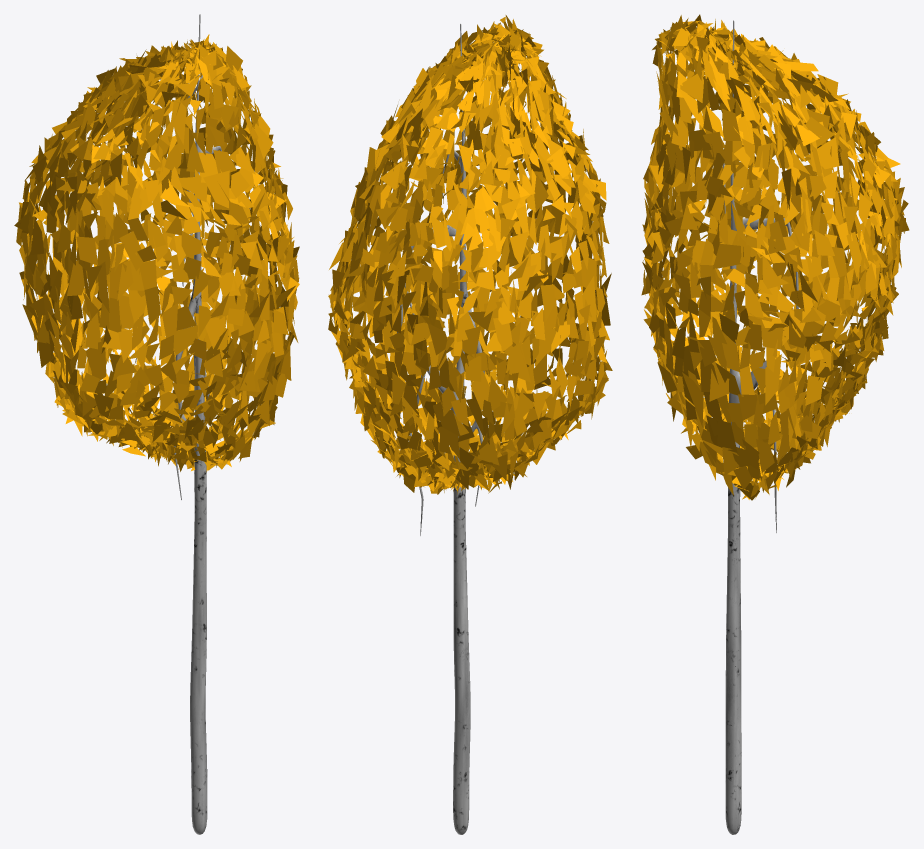
The model's file is Leaves63.002.fbx.
3 views of the same model, side by side, from view 1: azimuth 30°, elevation 25°; view 2: azimuth 150°, elevation 25°; view 3: azimuth 270°, elevation 25° (orthographic).
Visible parts, largest first — view 1: Leaves63.002; view 2: Leaves63.002; view 3: Leaves63.002.
Boxes of the visible parts, x1,y1,x2,y2 form: Leaves63.002: (14,14,299,834); Leaves63.002: (328,15,612,834); Leaves63.002: (641,14,909,834).
Bounding box in the file's own units: 795 × 2574 × 768.
Materials: 2 (1 with a texture image).
